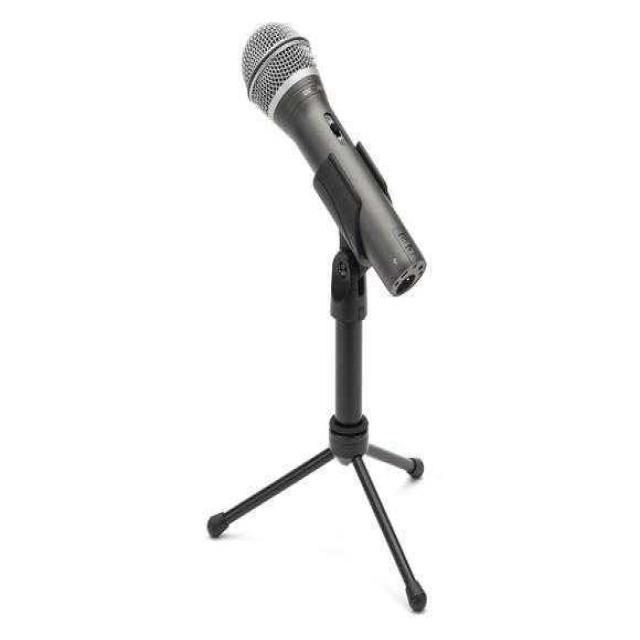microphone: (241, 26, 421, 295)
